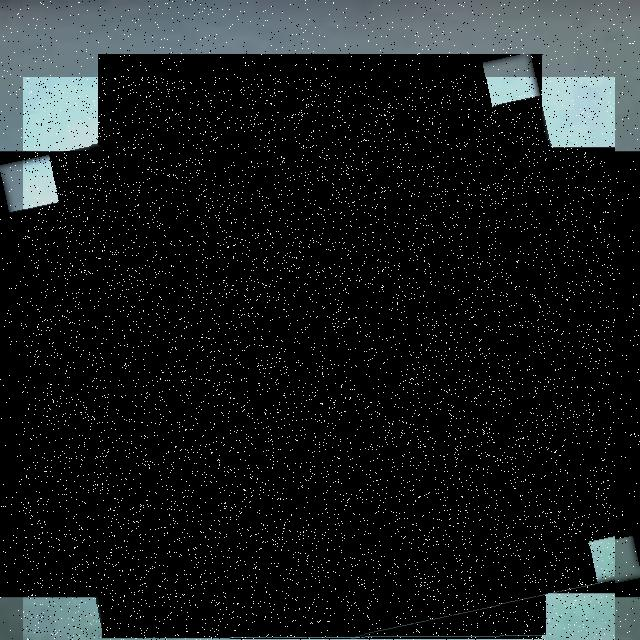lima puluh ribu rupiah: (23, 77, 615, 640)
